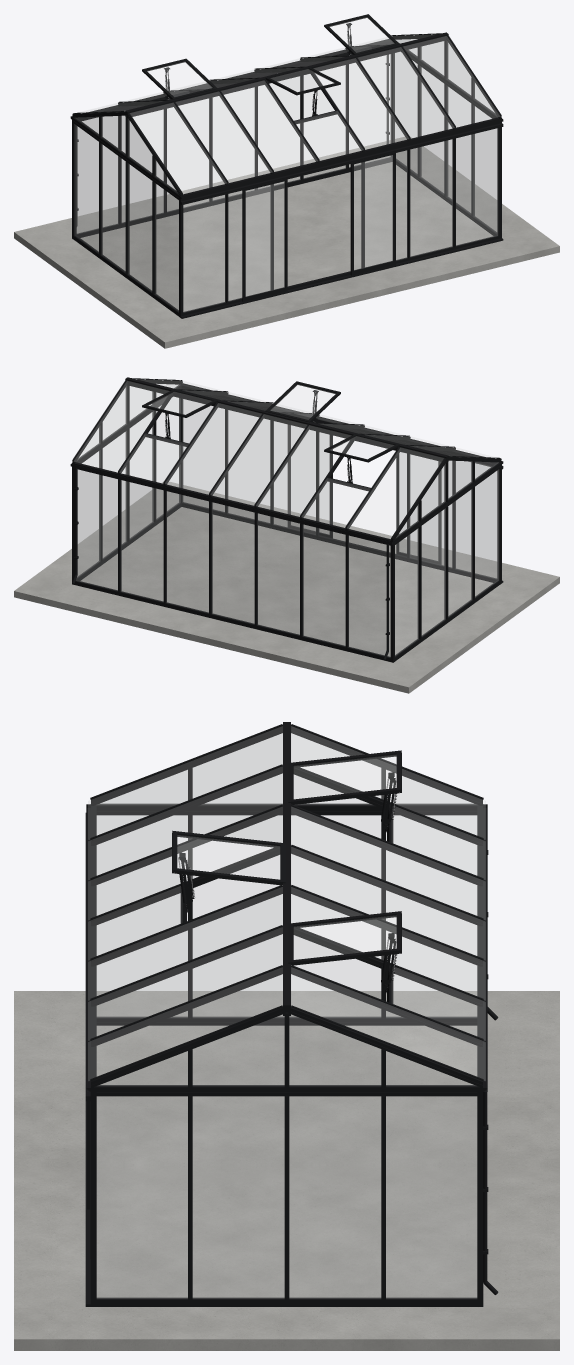
The model's file is sg-rect-10-2-17-6.glb.
The picture shows the model from 3 angles, top to bottom: view 1: azimuth 30°, elevation 25°; view 2: azimuth 150°, elevation 25°; view 3: azimuth 270°, elevation 25°; orthographic projection. The views are drawn at different scales.
Visible parts, largest first — view 1: scandiglas-rect-10-2-17-6; view 2: scandiglas-rect-10-2-17-6; view 3: scandiglas-rect-10-2-17-6.
Part boxes in pixels (x1,y1,x2,y2): scandiglas-rect-10-2-17-6: (14,14,559,348); scandiglas-rect-10-2-17-6: (14,377,559,693); scandiglas-rect-10-2-17-6: (14,722,559,1350).
Bounding box in the file's own units: 6.61 × 2.89 × 4.38.
Materials: 5 (1 with a texture image).
